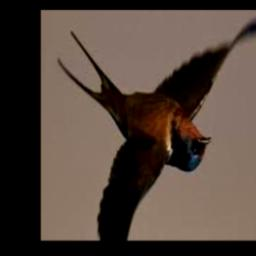Swallow: (58, 10, 256, 241)
